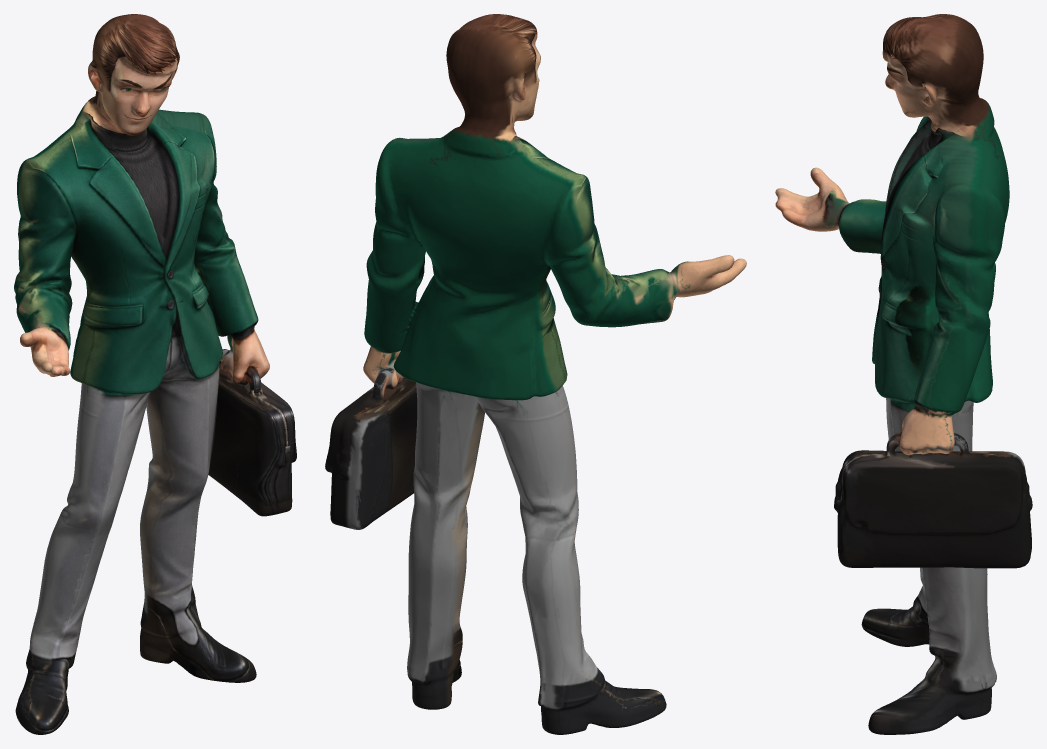
File: sus-green.glb
The picture shows the model from 3 angles, left to right: view 1: azimuth 30°, elevation 25°; view 2: azimuth 150°, elevation 25°; view 3: azimuth 270°, elevation 25°; orthographic projection. The views are drawn at different scales.
Visible parts, largest first — view 1: sus-green; view 2: sus-green; view 3: sus-green.
Part boxes in pixels (x1=…): sus-green: x1=14, y1=14, x2=296, y2=734; sus-green: x1=325, y1=14, x2=746, y2=734; sus-green: x1=775, y1=14, x2=1032, y2=734.
Bounding box in the file's own units: 0.939 × 1.97 × 0.686.
1 material, 1 textured.
